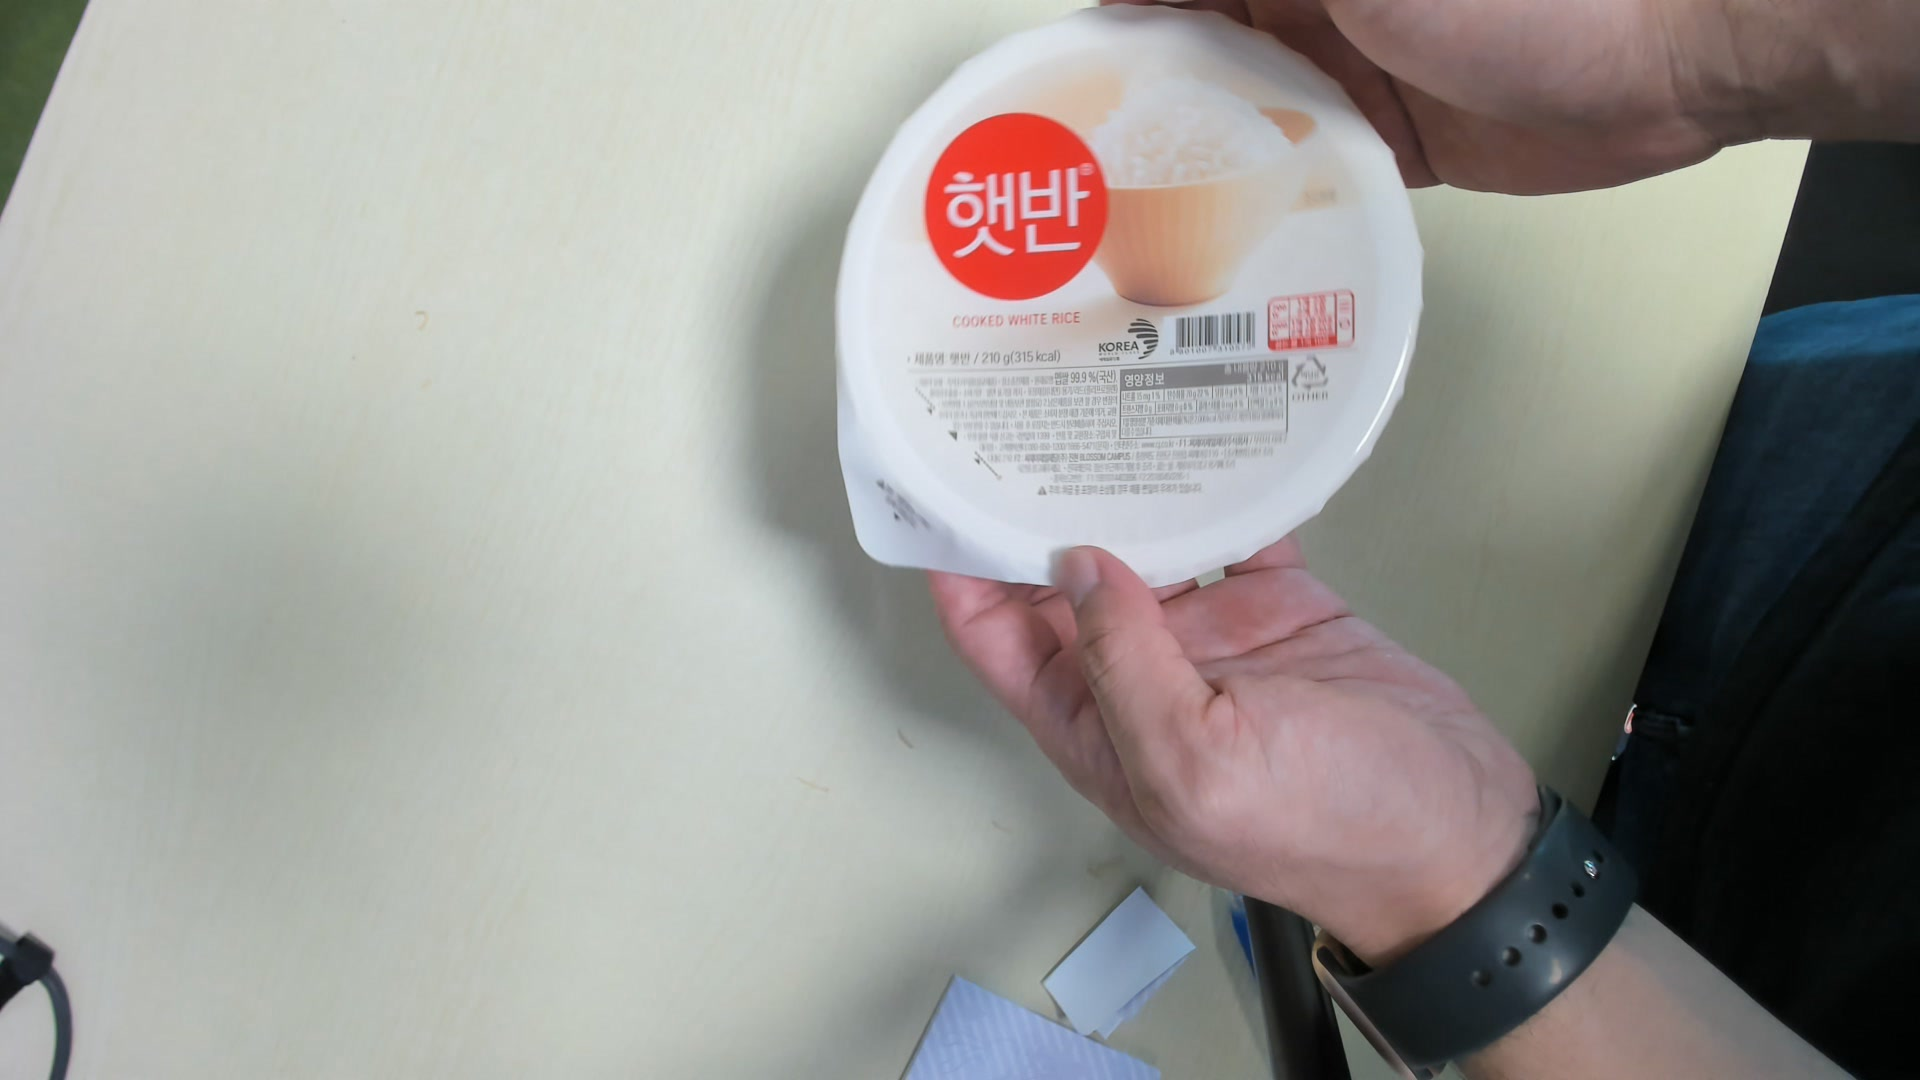Pasta_500-599g_Halal_NonHealthy: (824, 5, 1433, 593)
